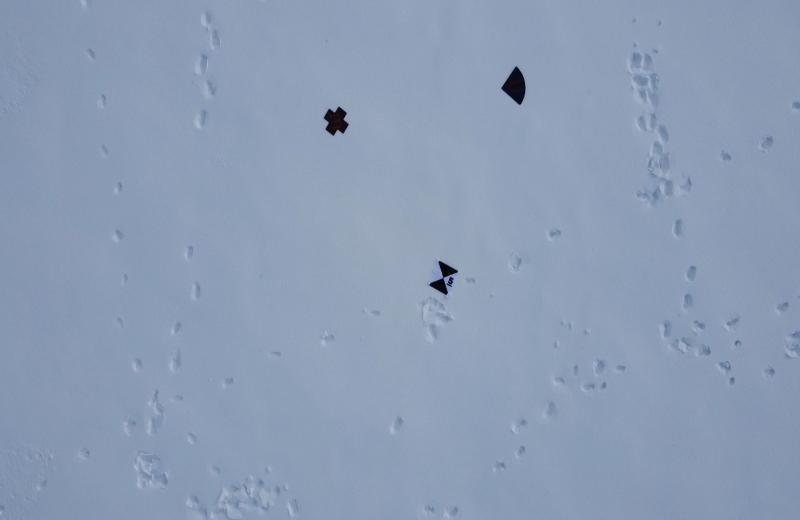Cross: (320, 102, 349, 136)
Quarter Circle: (496, 62, 528, 108)
